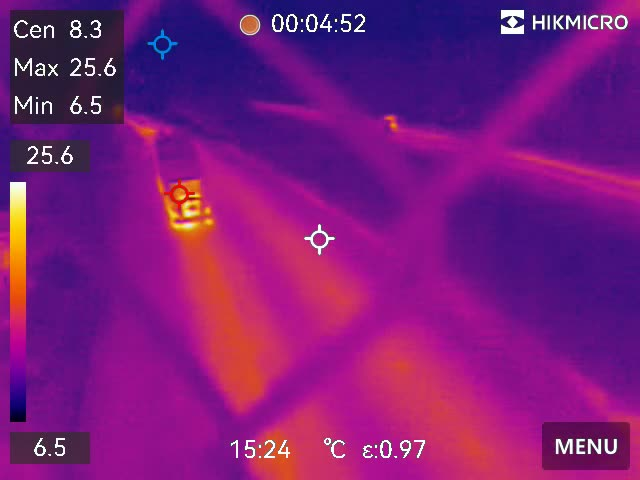heavyTruck: (151, 132, 221, 238)
